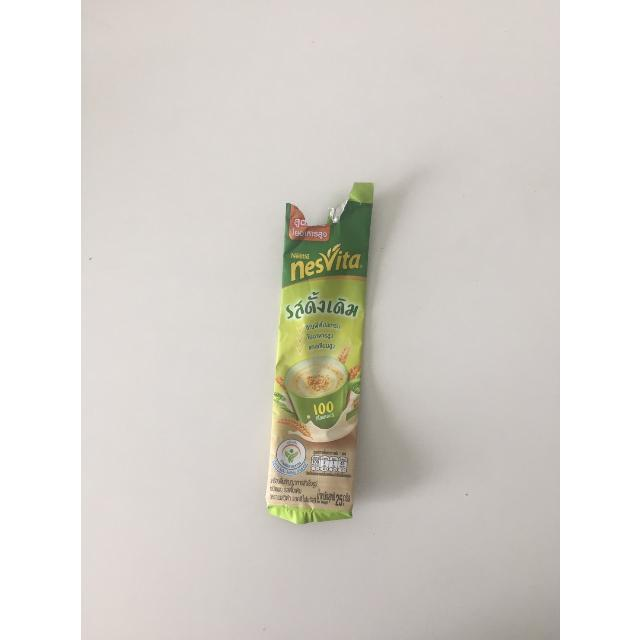Paquete de plastico: (267, 183, 373, 525)
